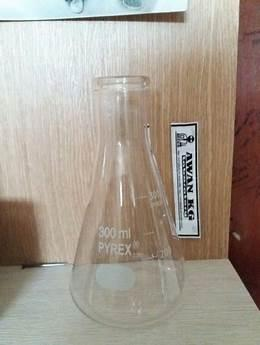Titrarion: (66, 73, 190, 328)
